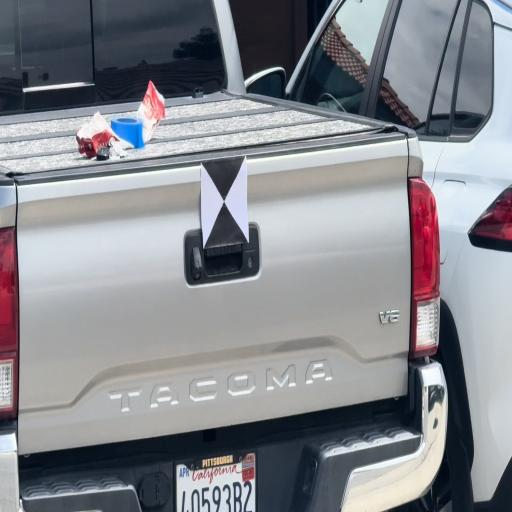target: (201, 156, 249, 248)
